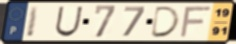7: (121, 5, 149, 38), (93, 4, 117, 40)
D: (149, 5, 182, 39)
F: (178, 5, 214, 39)
I: (25, 5, 41, 39)
U: (53, 6, 85, 38)
